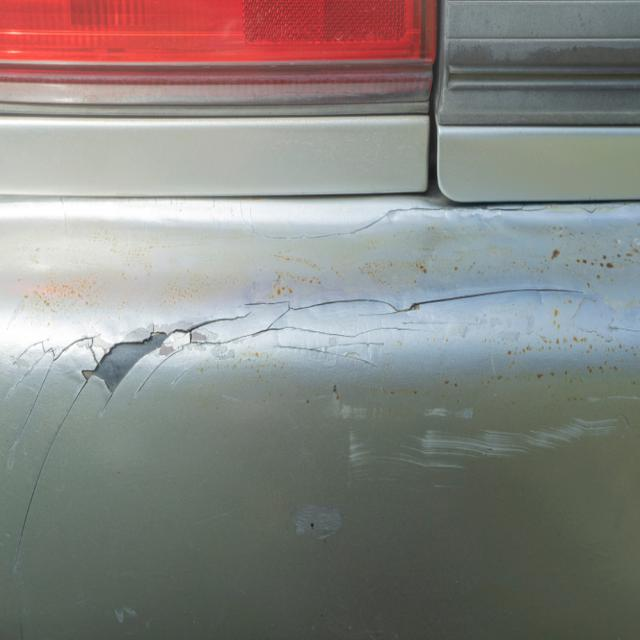scratch: (335, 396, 640, 493), (286, 498, 352, 549)
